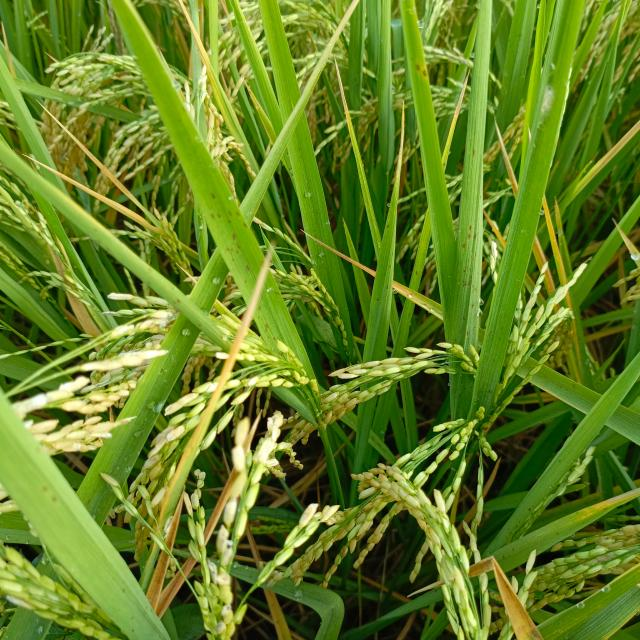insects: (223, 209, 242, 225), (208, 208, 225, 222), (207, 191, 221, 204), (464, 234, 481, 242), (229, 230, 239, 242), (244, 262, 254, 274), (421, 65, 428, 82), (414, 60, 422, 74), (468, 224, 477, 234), (459, 242, 470, 250), (471, 146, 477, 160)
